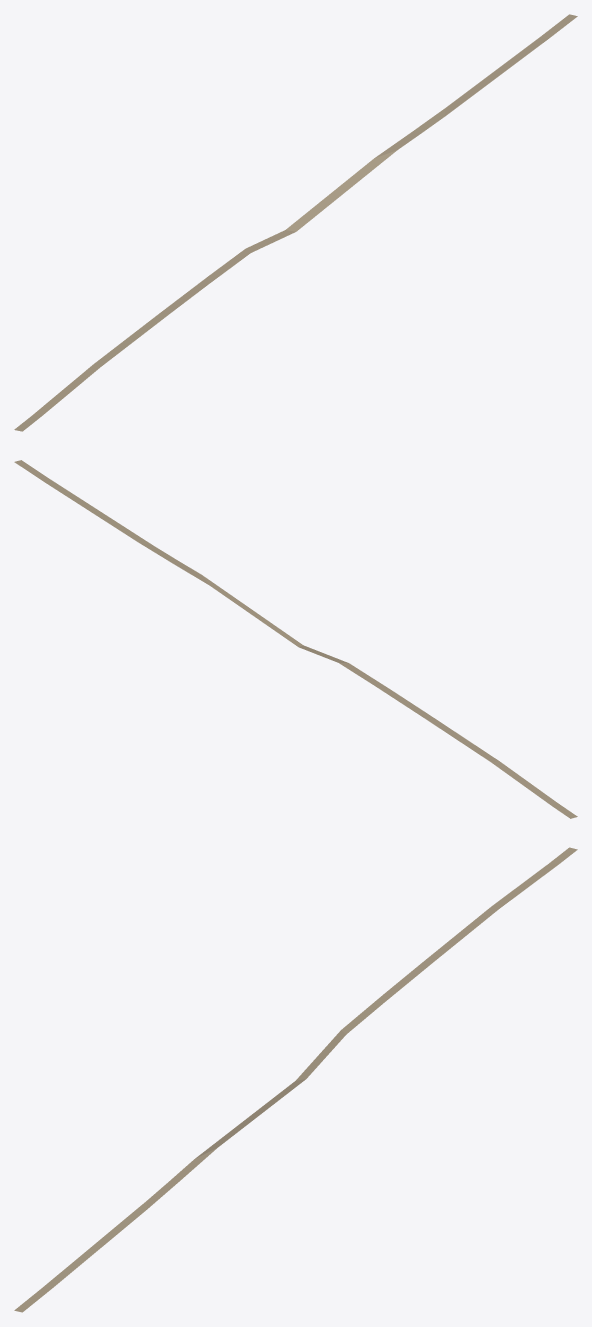
File: farm_10_15_track.glb
3 views of the same model, one above another, from view 1: azimuth 90°, elevation 25°; view 2: azimuth 150°, elevation 25°; view 3: azimuth 270°, elevation 25° (orthographic). The views are drawn at different scales.
Visible parts, largest first — view 1: geometry_0; view 2: geometry_0; view 3: geometry_0.
Boxes of the visible parts, x1,y1,x2,y2 form: geometry_0: (14, 14, 577, 431); geometry_0: (14, 460, 577, 818); geometry_0: (14, 847, 577, 1312).
Bounding box in the file's own units: 353 × 9.9 × 190.
